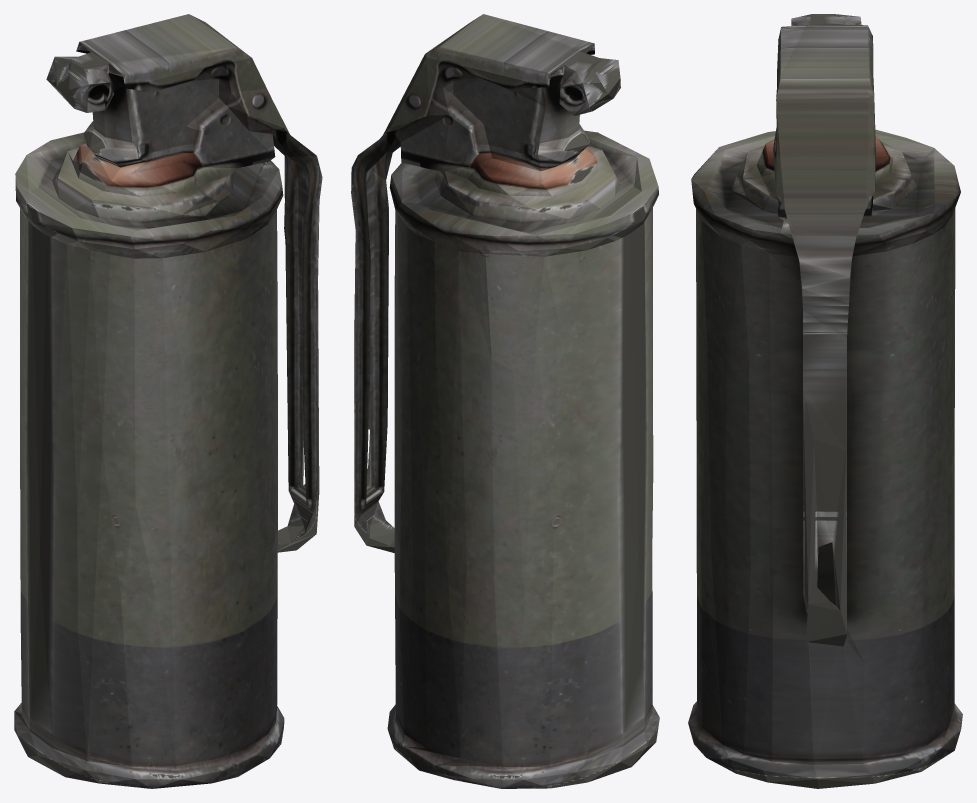
File: smoke.glb
3 renders of one model, left to right at view 1: azimuth 30°, elevation 25°; view 2: azimuth 150°, elevation 25°; view 3: azimuth 270°, elevation 25°, orthographic.
Parts seen in each view (by area): view 1: Mesh_0; view 2: Mesh_0; view 3: Mesh_0.
Boxes of the visible parts, x1,y1,x2,y2 form: Mesh_0: (14,14,322,788); Mesh_0: (351,14,659,788); Mesh_0: (688,14,962,788).
Size of the model in its own units: 0.0637 by 0.15 by 0.0545.
1 material, 1 textured.
